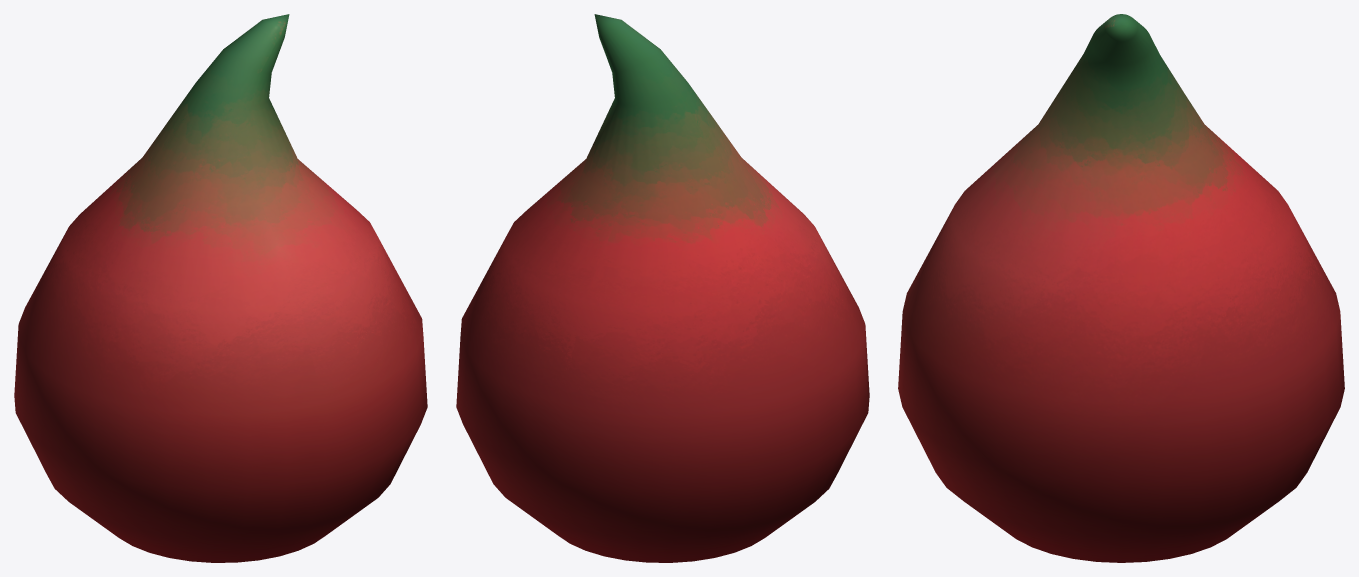
Rendered from DragonFruit_2 1.fbx.
3 renders of one model, left to right at view 1: azimuth 30°, elevation 25°; view 2: azimuth 150°, elevation 25°; view 3: azimuth 270°, elevation 25°, orthographic. The views are drawn at different scales.
Visible parts, largest first — view 1: 1_low015; view 2: 1_low015; view 3: 1_low015.
Boxes of the visible parts, <box> form: 1_low015: <box>14,14,427,562</box>; 1_low015: <box>456,14,869,562</box>; 1_low015: <box>898,14,1344,562</box>.
Bounding box in the file's own units: 0.8749 × 1.19 × 0.8749.
